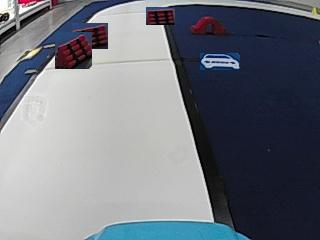bridge: (191, 16, 225, 34)
